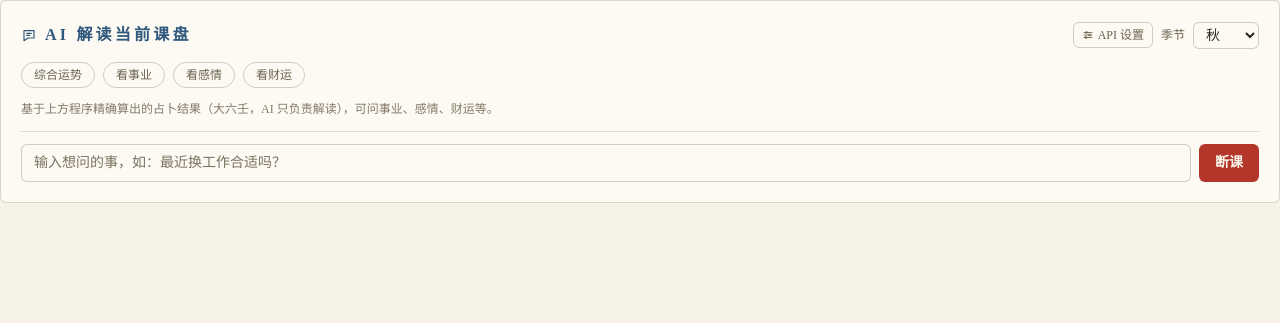
Test: AiDuanke SSR 流式断课 › 点击快捷问题后流式累积正文与思考过程
Click the button "综合运势": (58, 75) left=21, top=62, right=95, bottom=88
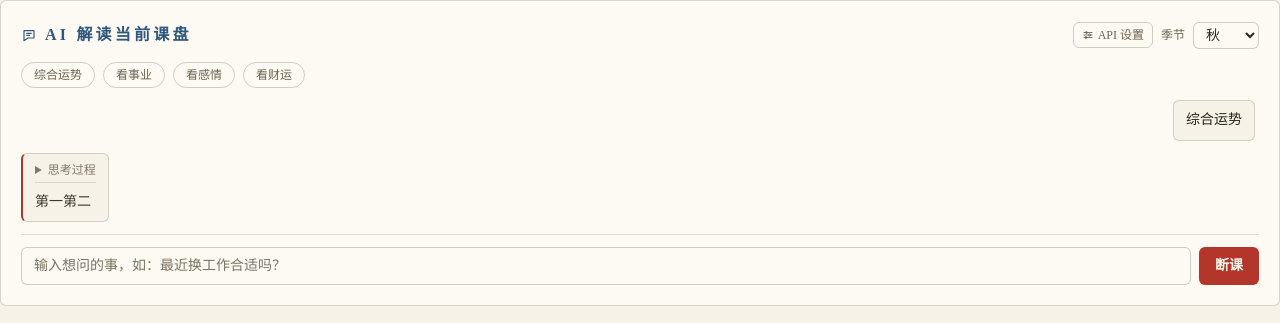
Check: the text "思考过程 第一第二" is shown, box left=21, top=152, right=109, bottom=222
